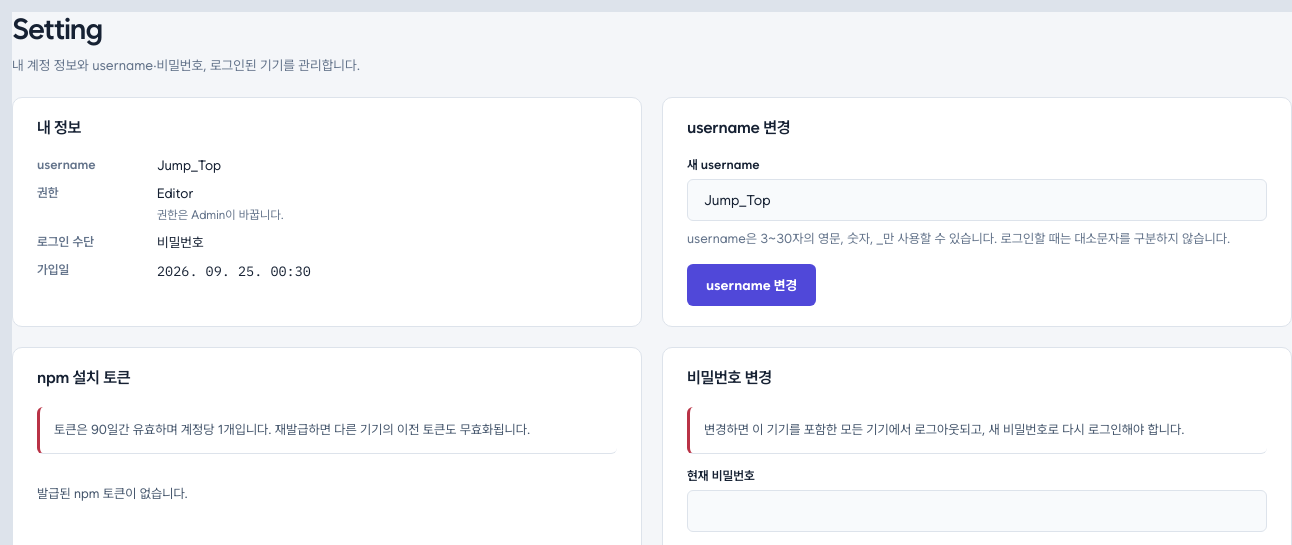
Scenario: username › sends the same value as username and display username, then refreshes
This screenshot has width=1292, height=545.
Replace the text in the field labelled "새 username" with " New_Name ": (977, 200) [687, 179, 1267, 221]
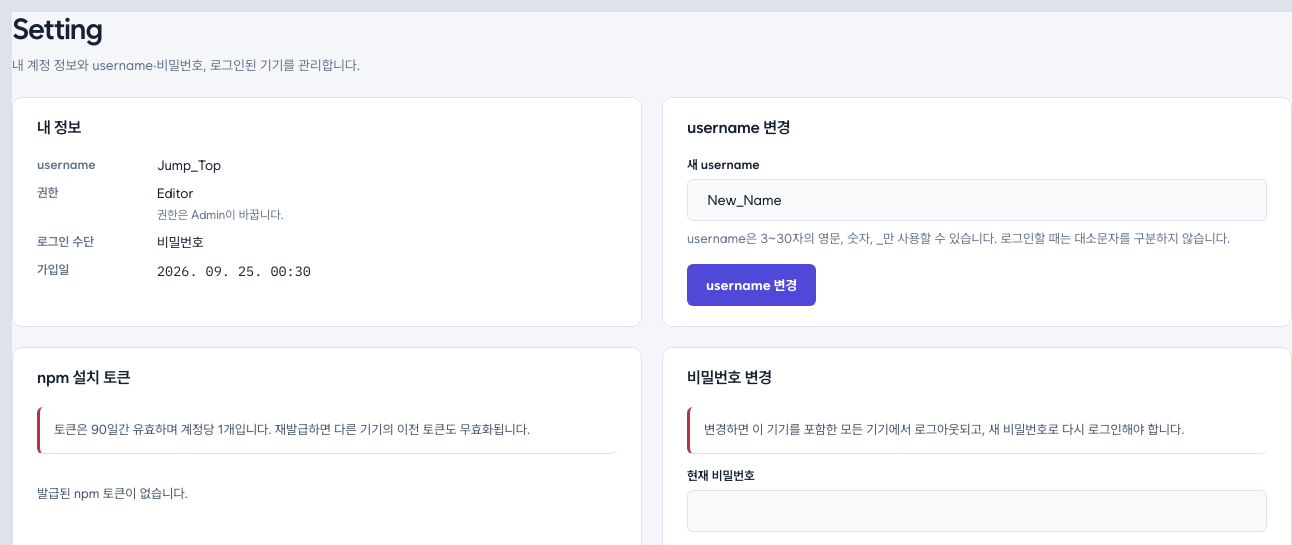
Click the button "username 변경": (752, 285) [687, 264, 816, 306]
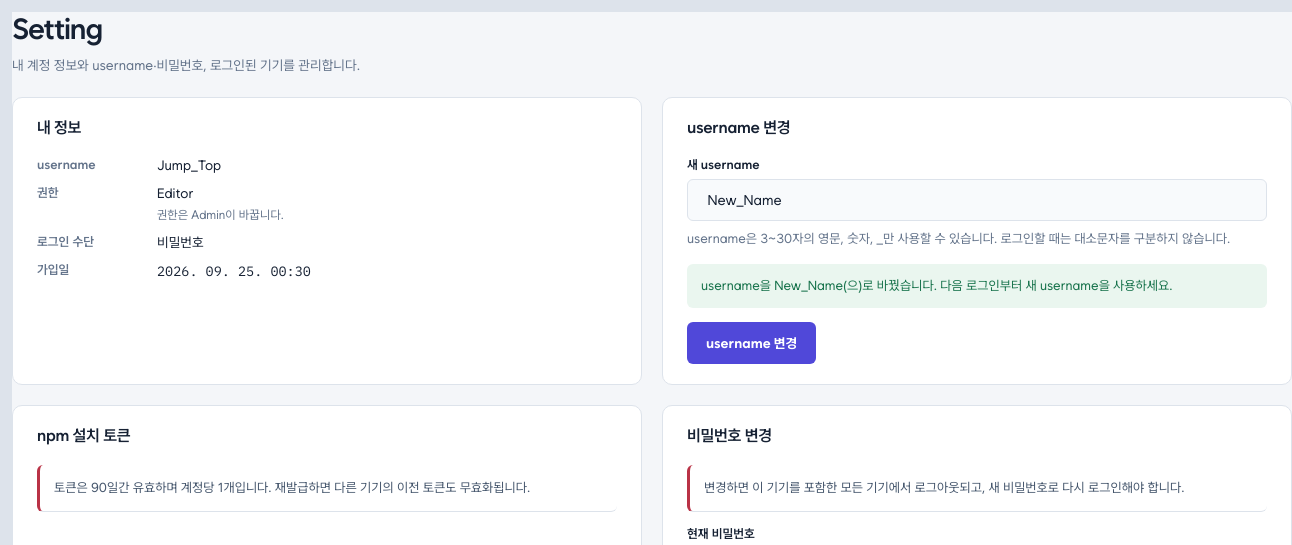
Expected: the message shows "username을 New_Name(으)로 바꿨습니다.", [701, 278, 1172, 293]
